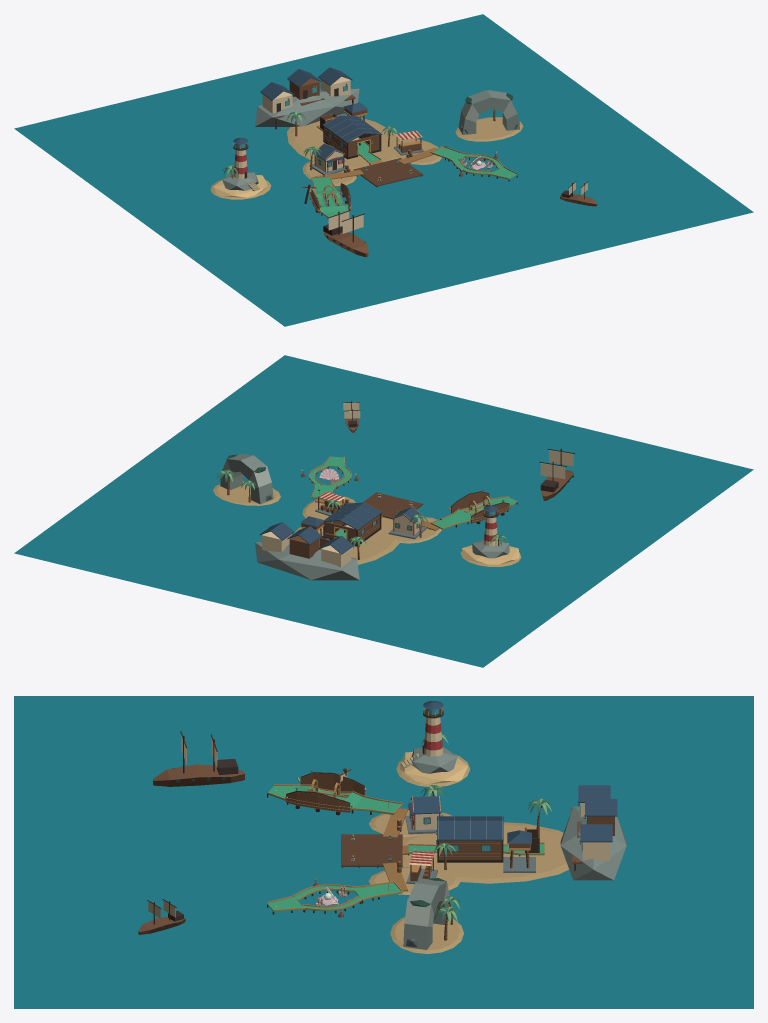
Rendered from district.glb.
The picture shows the model from 3 angles, top to bottom: view 1: azimuth 30°, elevation 25°; view 2: azimuth 150°, elevation 25°; view 3: azimuth 270°, elevation 25°; orthographic projection. The views are drawn at different scales.
Parts seen in each view (by area): view 1: PirateCove_District_Water, Scenery_5__PirateCove_SmugglerVillage_Standard, PirateCove_District_Terrain, PirateCove_District_Dressing, Scenery_4__PirateCove_SeaStackArch_Standard, Scenery_3__PirateCove_LighthouseIsland_Standard, Scenery_6__PirateCove_DistantGalleon_Standard, CaptainsFinale_1__PirateCove_CaptainsRoof_Standard, CaptainsFinale_0__PirateCove_CaptainsCabin_Standard, Scenery_0__PirateCove_HarborTavern_Standard, PearlLagoon__PirateCove_PearlLagoon_Surface, ShipwreckPassage__PirateCove_ShipwreckPassage_Surface (+1 smaller); view 2: PirateCove_District_Water, Scenery_5__PirateCove_SmugglerVillage_Standard, PirateCove_District_Terrain, Scenery_4__PirateCove_SeaStackArch_Standard, Scenery_3__PirateCove_LighthouseIsland_Standard, Scenery_6__PirateCove_DistantGalleon_Standard, PirateCove_District_Dressing, CaptainsFinale_1__PirateCove_CaptainsRoof_Standard, Scenery_0__PirateCove_HarborTavern_Standard, CaptainsFinale_0__PirateCove_CaptainsCabin_Standard, ShipwreckPassage_0__PirateCove_WreckHull_Standard, PearlLagoon__PirateCove_PearlLagoon_Surface (+1 smaller); view 3: PirateCove_District_Water, PirateCove_District_Terrain, Scenery_5__PirateCove_SmugglerVillage_Standard, PirateCove_District_Dressing, Scenery_3__PirateCove_LighthouseIsland_Standard, Scenery_4__PirateCove_SeaStackArch_Standard, Scenery_6__PirateCove_DistantGalleon_Standard, ShipwreckPassage_0__PirateCove_WreckHull_Standard, CaptainsFinale_1__PirateCove_CaptainsRoof_Standard, PearlLagoon__PirateCove_PearlLagoon_Surface, CaptainsFinale_0__PirateCove_CaptainsCabin_Standard, Scenery_0__PirateCove_HarborTavern_Standard (+6 smaller).
Boxes of the visible parts, left/top/right/bottom form: PirateCove_District_Water: left=14, top=14, right=753, bottom=326; Scenery_5__PirateCove_SmugglerVillage_Standard: left=255, top=67, right=359, bottom=129; PirateCove_District_Terrain: left=210, top=114, right=523, bottom=199; PirateCove_District_Dressing: left=304, top=136, right=517, bottom=215; Scenery_4__PirateCove_SeaStackArch_Standard: left=458, top=90, right=520, bottom=134; Scenery_3__PirateCove_LighthouseIsland_Standard: left=213, top=138, right=267, bottom=197; Scenery_6__PirateCove_DistantGalleon_Standard: left=323, top=210, right=368, bottom=257; CaptainsFinale_1__PirateCove_CaptainsRoof_Standard: left=322, top=115, right=382, bottom=142; CaptainsFinale_0__PirateCove_CaptainsCabin_Standard: left=323, top=126, right=381, bottom=157; Scenery_0__PirateCove_HarborTavern_Standard: left=309, top=143, right=345, bottom=174; PearlLagoon__PirateCove_PearlLagoon_Surface: left=431, top=147, right=517, bottom=179; ShipwreckPassage__PirateCove_ShipwreckPassage_Surface: left=312, top=177, right=347, bottom=217; PirateCove_District_Water: left=14, top=355, right=753, bottom=667; Scenery_5__PirateCove_SmugglerVillage_Standard: left=255, top=522, right=359, bottom=580; PirateCove_District_Terrain: left=213, top=481, right=521, bottom=566; Scenery_4__PirateCove_SeaStackArch_Standard: left=220, top=454, right=273, bottom=504; Scenery_3__PirateCove_LighthouseIsland_Standard: left=462, top=505, right=519, bottom=564; Scenery_6__PirateCove_DistantGalleon_Standard: left=539, top=448, right=575, bottom=500; PirateCove_District_Dressing: left=309, top=458, right=517, bottom=546; CaptainsFinale_1__PirateCove_CaptainsRoof_Standard: left=324, top=502, right=382, bottom=530; Scenery_0__PirateCove_HarborTavern_Standard: left=388, top=506, right=426, bottom=539; CaptainsFinale_0__PirateCove_CaptainsCabin_Standard: left=323, top=514, right=381, bottom=544; ShipwreckPassage_0__PirateCove_WreckHull_Standard: left=447, top=489, right=512, bottom=523; PearlLagoon__PirateCove_PearlLagoon_Surface: left=309, top=456, right=351, bottom=499; PirateCove_District_Water: left=14, top=696, right=753, bottom=1008; PirateCove_District_Terrain: left=368, top=754, right=568, bottom=953; Scenery_5__PirateCove_SmugglerVillage_Standard: left=560, top=785, right=626, bottom=880; PirateCove_District_Dressing: left=267, top=790, right=520, bottom=914; Scenery_3__PirateCove_LighthouseIsland_Standard: left=400, top=701, right=467, bottom=784; Scenery_4__PirateCove_SeaStackArch_Standard: left=403, top=878, right=449, bottom=949; Scenery_6__PirateCove_DistantGalleon_Standard: left=153, top=731, right=244, bottom=786; ShipwreckPassage_0__PirateCove_WreckHull_Standard: left=285, top=769, right=366, bottom=812; CaptainsFinale_1__PirateCove_CaptainsRoof_Standard: left=437, top=816, right=503, bottom=840; PearlLagoon__PirateCove_PearlLagoon_Surface: left=267, top=882, right=402, bottom=911; CaptainsFinale_0__PirateCove_CaptainsCabin_Standard: left=436, top=830, right=503, bottom=860; Scenery_0__PirateCove_HarborTavern_Standard: left=405, top=795, right=443, bottom=834.
Size of what is drawn, in the model's own units: 120 by 13.98 by 120.
